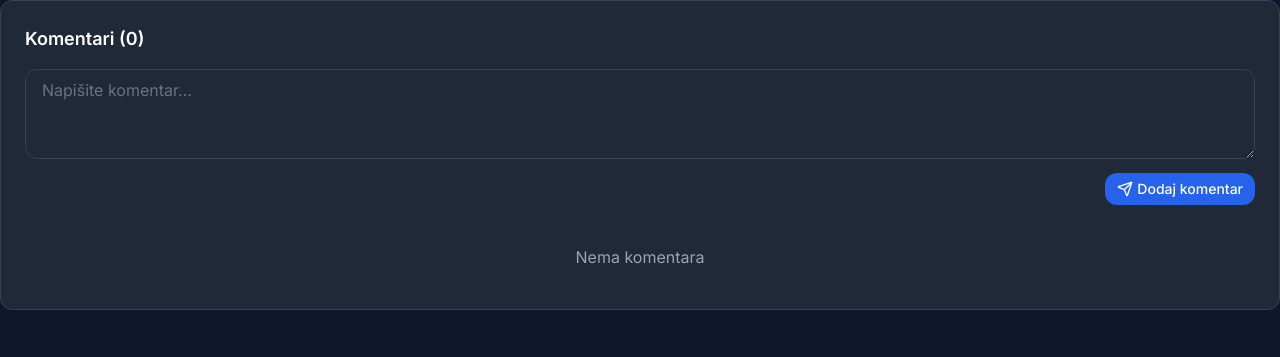
Test: TicketComments › should handle adding a new comment
In the text box with placeholder "Napišite komentar...": (640, 114) [25,69,1255,159], type "Novi komentar"
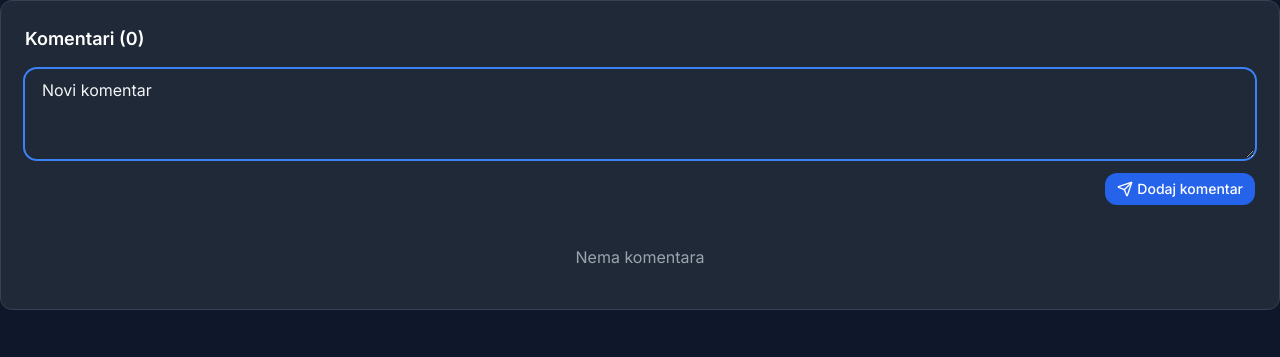
Click the button "Dodaj komentar": (1180, 189) [1105,173,1255,205]
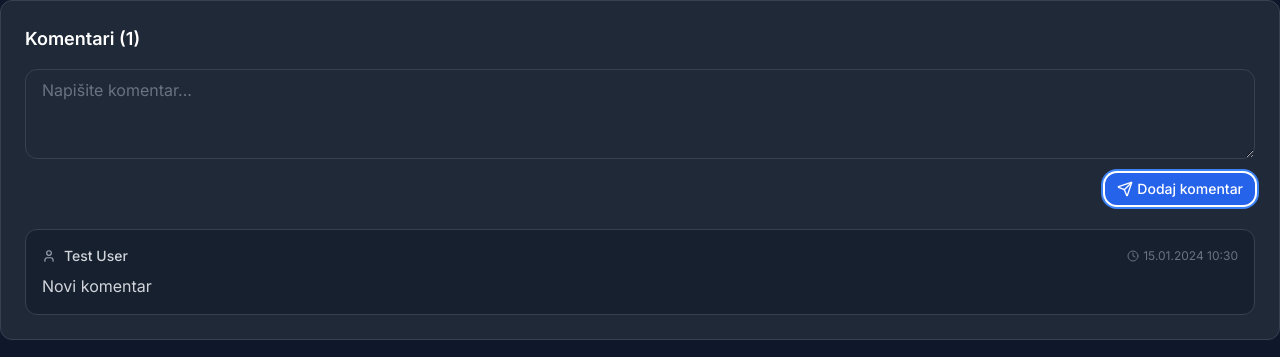
Expected: the text "Novi komentar" is shown, [42,276,152,296]
